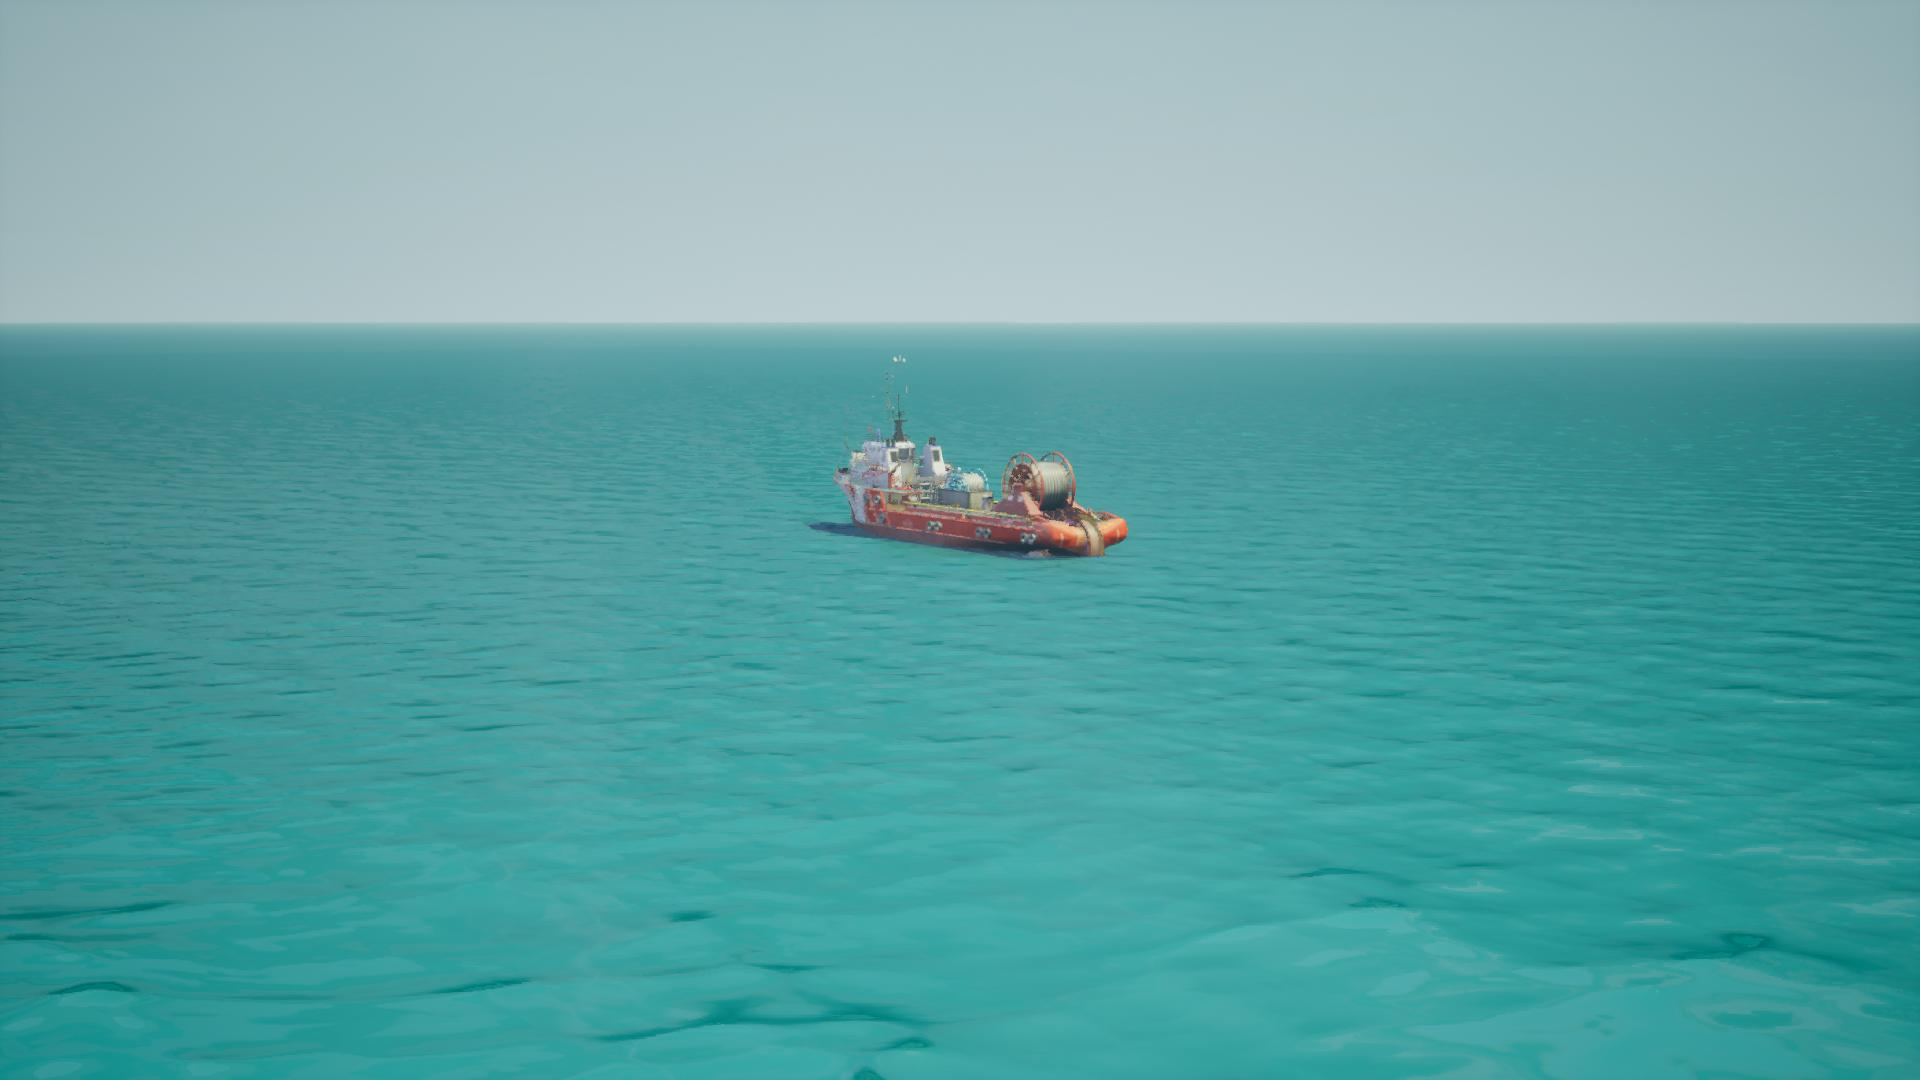Tug Boat: (815, 360, 1124, 562)
